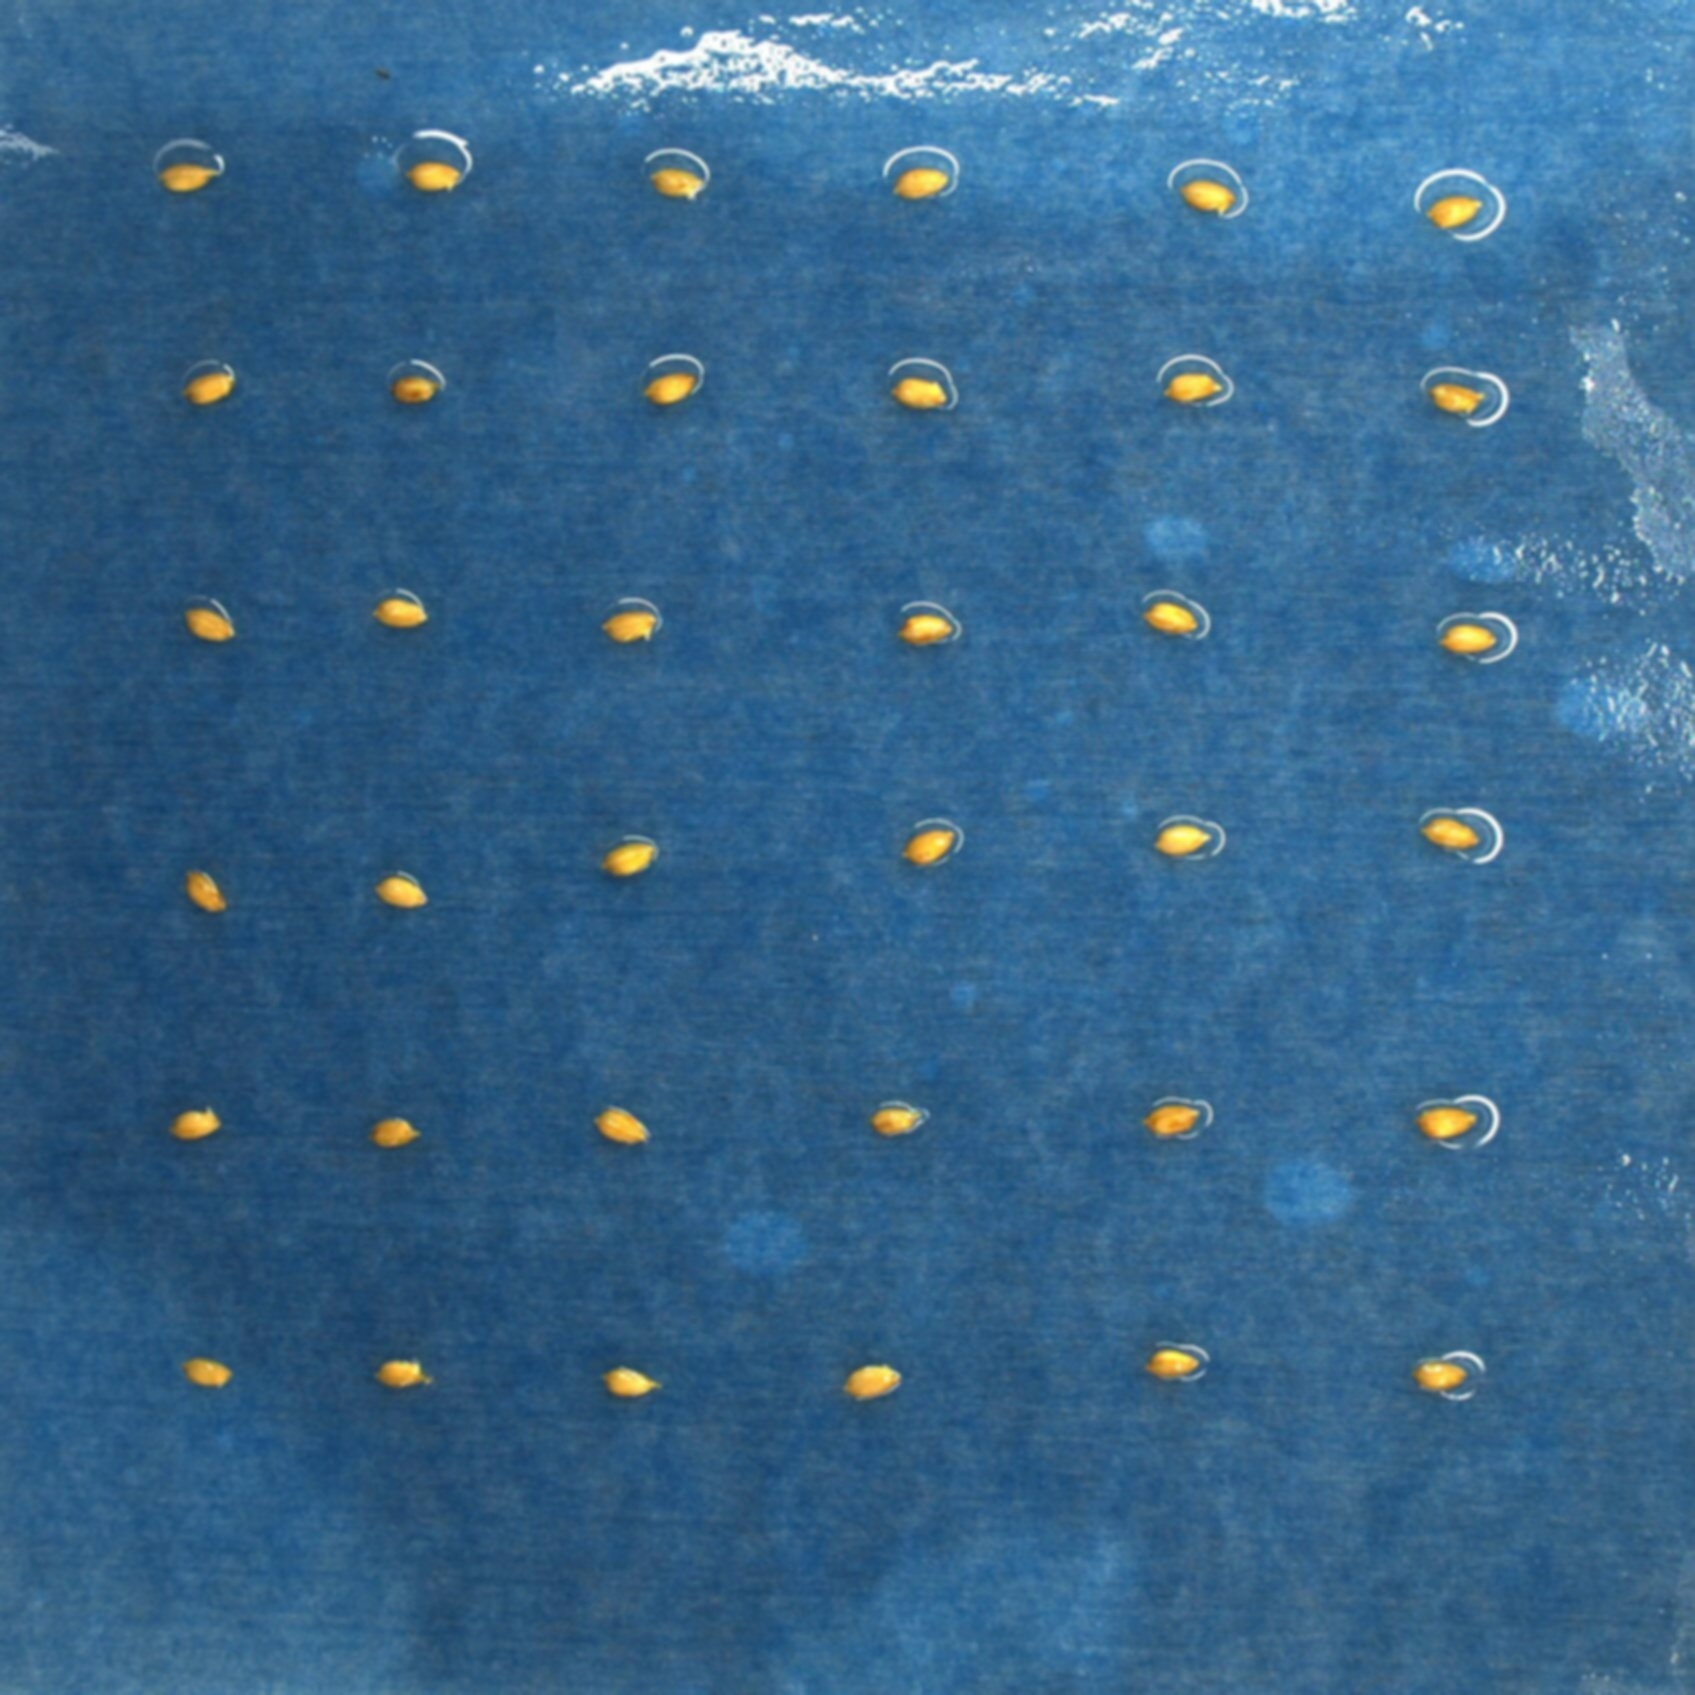not sprout: (837, 1357, 900, 1405), (373, 1355, 439, 1399), (175, 604, 239, 647), (900, 821, 958, 868), (1416, 1104, 1478, 1146), (1173, 175, 1237, 216), (896, 608, 958, 649), (376, 865, 425, 914), (594, 1101, 647, 1144), (888, 377, 947, 416), (1409, 1357, 1468, 1395), (1433, 619, 1499, 653), (373, 1108, 424, 1152), (871, 1101, 933, 1136), (369, 591, 428, 629), (1139, 601, 1200, 636), (1152, 821, 1209, 858), (602, 1364, 664, 1399), (601, 837, 655, 875), (400, 154, 459, 189), (1420, 820, 1479, 855), (1426, 197, 1487, 231), (1146, 1099, 1197, 1139), (1144, 1346, 1205, 1380), (185, 363, 231, 405), (165, 1107, 219, 1142), (641, 171, 705, 200), (1431, 383, 1489, 416), (893, 171, 948, 203), (188, 869, 230, 913), (1167, 376, 1225, 407), (641, 373, 692, 407), (157, 165, 219, 192), (604, 615, 660, 646), (183, 1357, 236, 1389), (391, 373, 439, 407)
